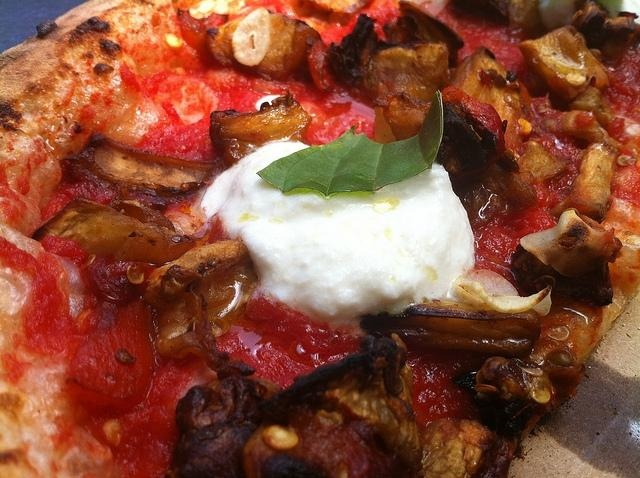mushroom: (146, 236, 256, 358), (328, 13, 451, 108), (31, 198, 197, 266), (511, 210, 623, 308), (360, 301, 542, 358), (82, 132, 224, 193), (209, 90, 312, 168), (518, 26, 614, 99), (549, 142, 618, 224), (488, 0, 550, 40), (563, 109, 623, 148), (232, 8, 271, 66)
tomato: (216, 288, 366, 391), (473, 160, 581, 298), (112, 358, 218, 478), (66, 296, 156, 408), (174, 1, 326, 64), (435, 0, 548, 74), (436, 87, 508, 182), (41, 159, 118, 223), (321, 5, 398, 49), (306, 108, 375, 147), (604, 46, 638, 124), (307, 40, 336, 92), (41, 237, 89, 268), (610, 161, 640, 208)
